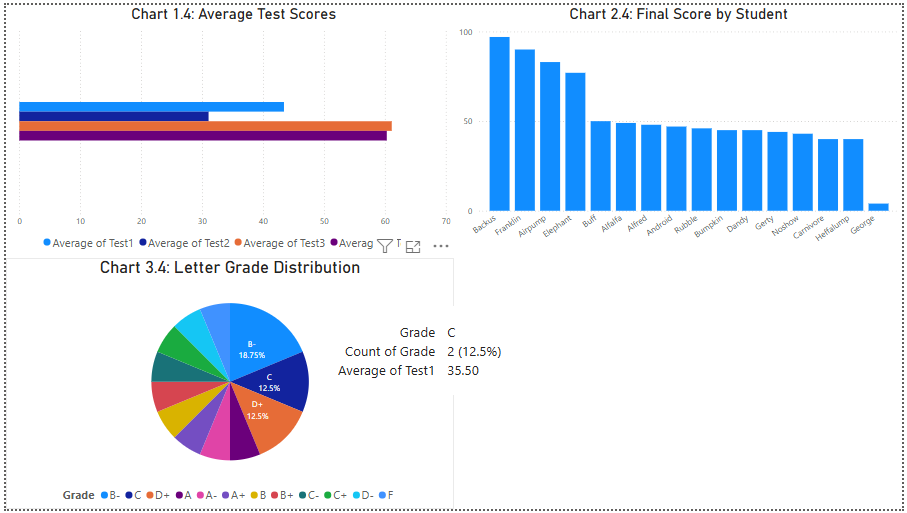

Layout of this report page (visuals, bound fields, positions):
{"tool":"powerbi","page":{"name":"Tooltips","canvas":[1280,720],"ordinal":6},"visuals":[{"type":"clusteredBarChart","title":"Chart 1.4: Average Test Scores","fields":{"Y":["Avg(grades.Test1)","Avg(grades.Test2)","Avg(grades.Test3)","Avg(grades.Test4)"]},"box":[10.6,0,630.3,359.2],"z":0},{"type":"clusteredColumnChart","title":"Chart 2.4: Final Score by Student","fields":{"Y":["Sum(grades.Final)"],"Category":["grades.Last name"]},"box":[640.9,0,639.1,360.9],"z":1000},{"type":"pieChart","title":"Chart 3.4: Letter Grade Distribution","fields":{"Category":["grades.Grade"],"Y":["CountNonNull(grades.Grade)"]},"box":[0,361.4,640,358.6],"z":2000}]}

Visuals, with their boxes in screenshot pixels (x1, y1, x2, y2), scaled from the page's 1280x720 canvas onto the 907x513 screenshot:
"Chart 1.4: Average Test Scores" clusteredBarChart: [8, 0, 454, 256]
"Chart 2.4: Final Score by Student" clusteredColumnChart: [454, 0, 906, 257]
"Chart 3.4: Letter Grade Distribution" pieChart: [0, 257, 454, 512]
